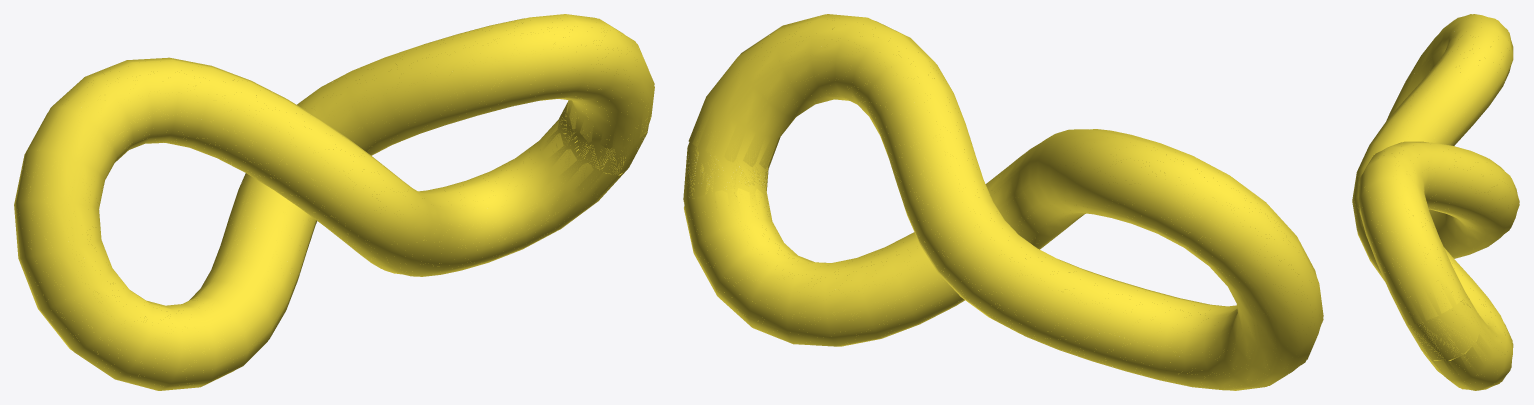
Rendered from lemniscata2.glb.
3 views of the same model, side by side, from view 1: azimuth 30°, elevation 25°; view 2: azimuth 150°, elevation 25°; view 3: azimuth 270°, elevation 25° (orthographic). The views are drawn at different scales.
Parts seen in each view (by area): view 1: MyParametricCurve; view 2: MyParametricCurve; view 3: MyParametricCurve.
Boxes of the visible parts, x1=… form: MyParametricCurve: x1=14, y1=14, x2=654, y2=390; MyParametricCurve: x1=683, y1=14, x2=1323, y2=390; MyParametricCurve: x1=1352, y1=14, x2=1519, y2=390.
Bounding box in the file's own units: 4.54 × 1.95 × 1.34.
